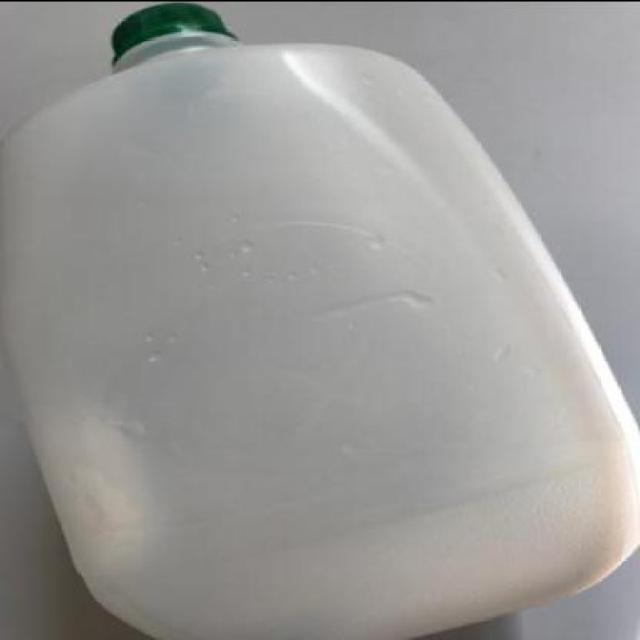PLASTIC: (1, 1, 638, 638), (109, 1, 245, 64)
